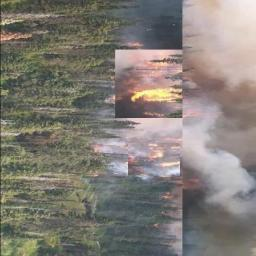Heavy smoke: (85, 0, 256, 256)
Small fire: (123, 52, 181, 116)
